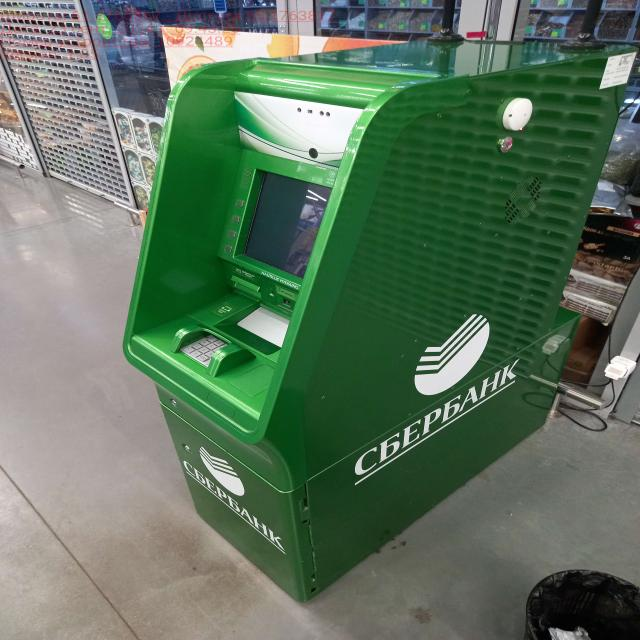bank: (125, 32, 640, 603)
